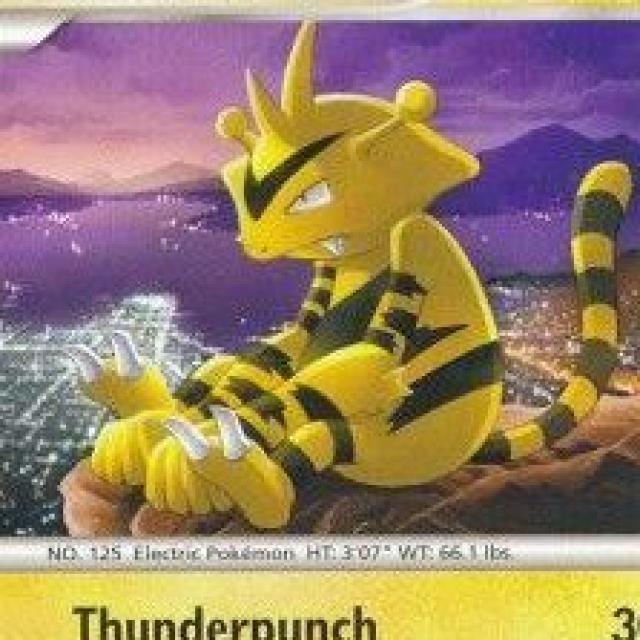Electabuzz: (90, 59, 548, 523)
